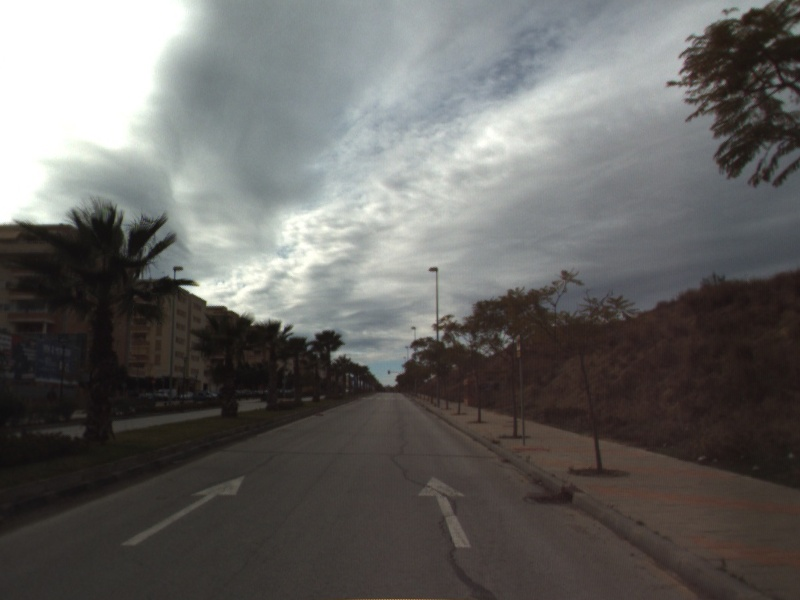STRAIGHT: (119, 473, 248, 548), (416, 474, 475, 550)
